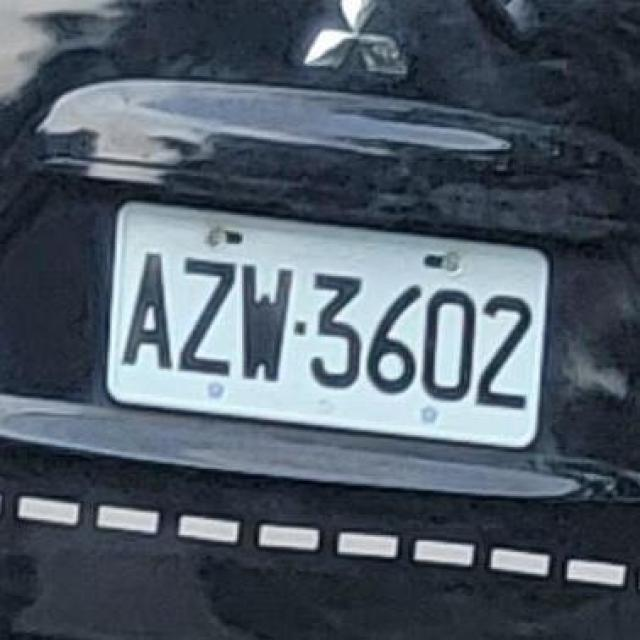W: (88, 169, 566, 466)
